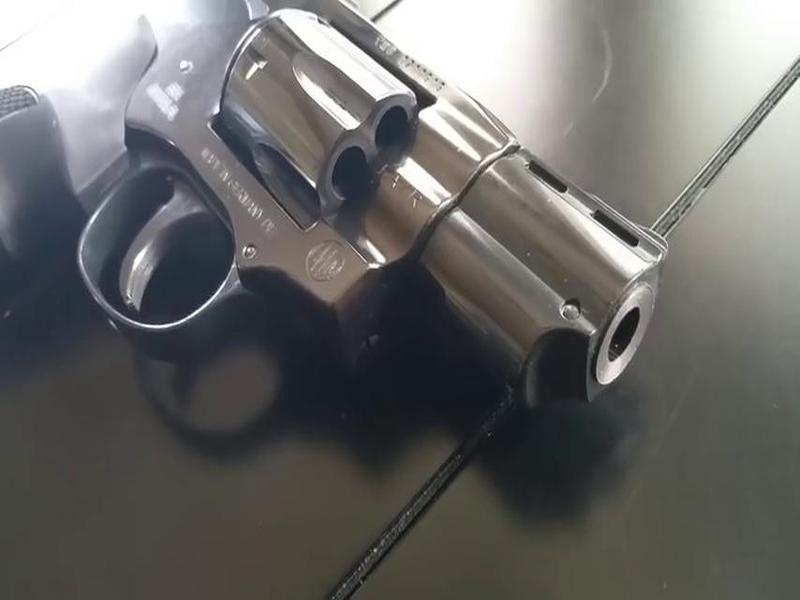Revolver: (1, 7, 693, 452)
